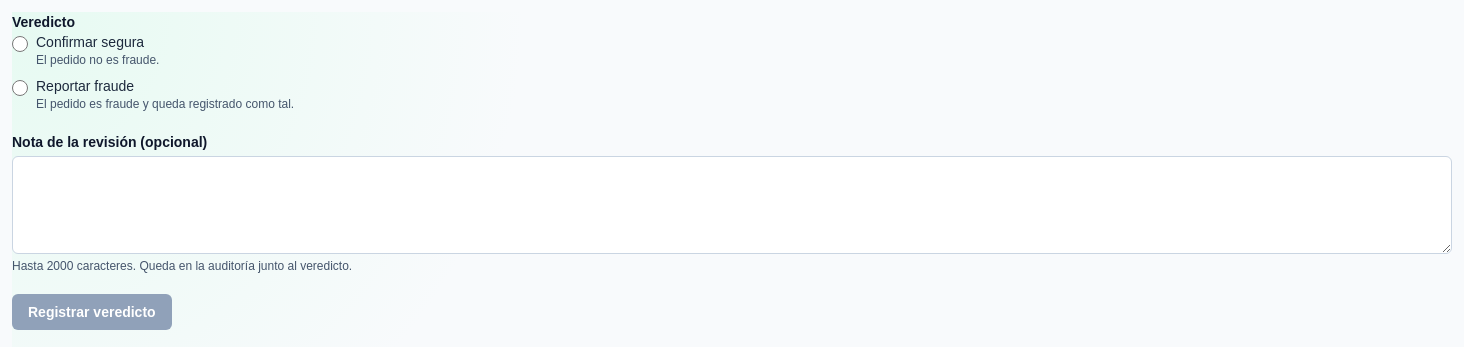
Test: formulario de revisión › habilita el envío al elegir un veredicto
Click the radio button labelled "Confirmar segura El pedido no es fraude.": (20, 44) top-left (12, 36), bottom-right (28, 52)
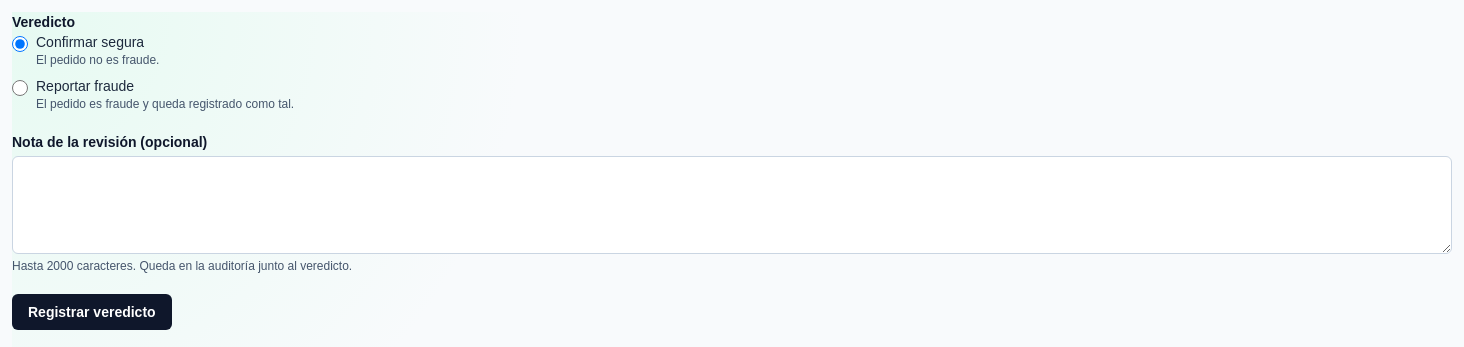
Expected: the button "Registrar veredicto" is enabled, top-left (12, 294), bottom-right (172, 330)
